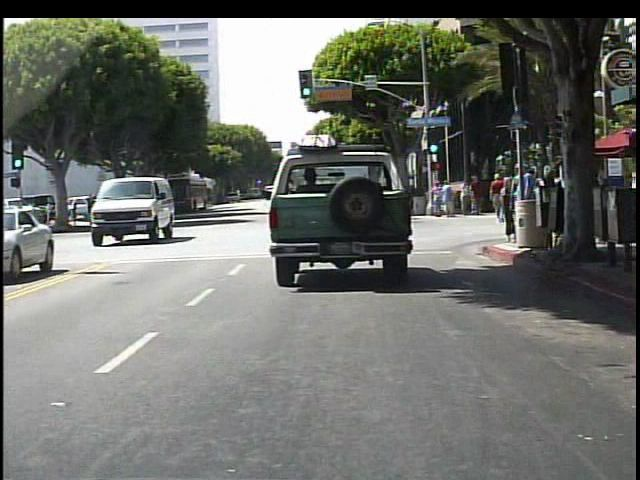person: (517, 161, 538, 245), (503, 170, 517, 242), (521, 175, 538, 227), (489, 171, 504, 223), (539, 173, 553, 219), (470, 171, 483, 213), (440, 180, 454, 218), (459, 178, 471, 214), (434, 183, 445, 216)
